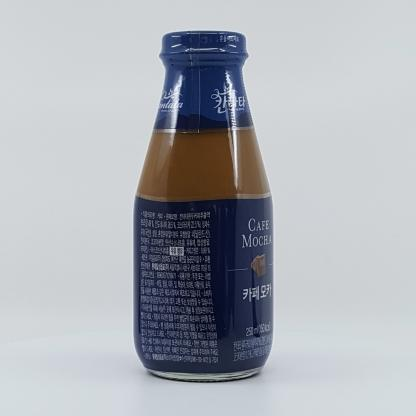------------250ML: (133, 30, 274, 382)
